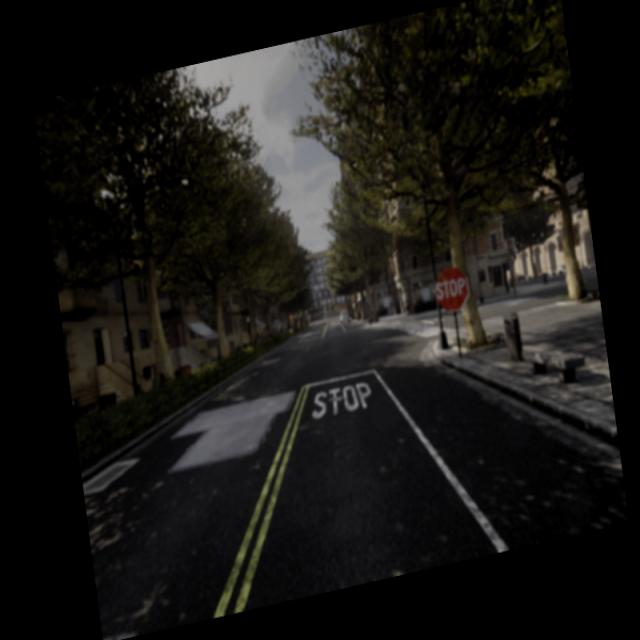stop sign: (433, 264, 470, 314)
